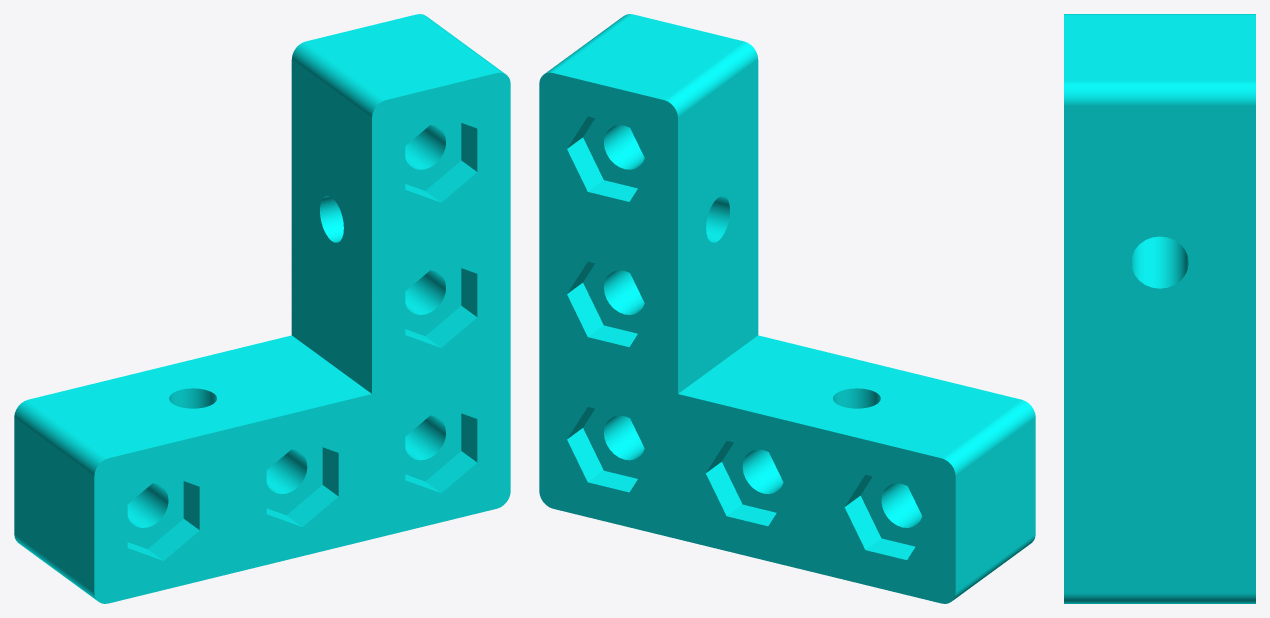
Rendered from L5S_blue.glb.
The picture shows the model from 3 angles, left to right: view 1: azimuth 30°, elevation 25°; view 2: azimuth 150°, elevation 25°; view 3: azimuth 270°, elevation 25°; orthographic projection. The views are drawn at different scales.
Visible parts, largest first — view 1: L5S; view 2: L5S; view 3: L5S.
Part boxes in pixels (x1,y1,x2,y2): L5S: (14,14,510,603); L5S: (539,14,1035,603); L5S: (1064,14,1255,603).
Bounding box in the file's own units: 0.03 × 0.03 × 0.01.
